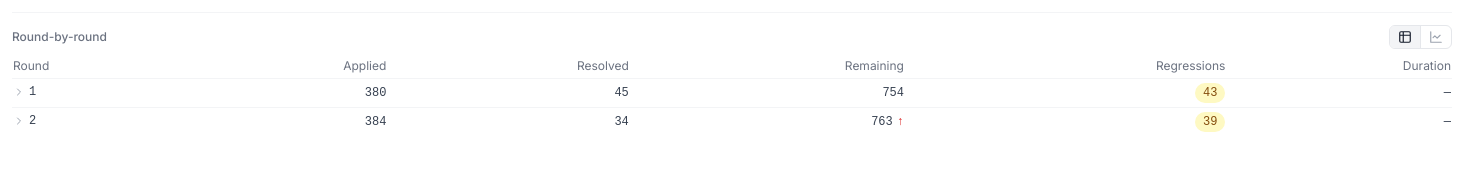
Test case: AutoModeRoundHistory › expands a round to show its plain-language explanation on toggle, and collapses it again
This screenshot has width=1464, height=186.
Check: the number of rows is 3, box [12,57,1452,78]; [12,78,1452,108]; [12,108,1452,136]
Step 1. Click the button "2" → (25, 120), box [13,112,36,128]
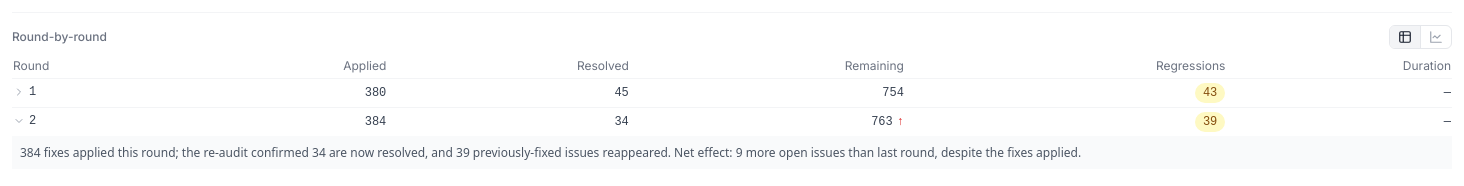
Check: the number of rows is 4, box [12,57,1452,78]; [12,78,1452,108]; [12,108,1452,136]; [12,136,1452,169]
Check: the button "2" is expanded
Check: the text "39 previously-fixed issues reappeared" is shown, box [20,144,1081,161]
Step 2. Click the button "2" → (25, 120), box [13,112,36,128]
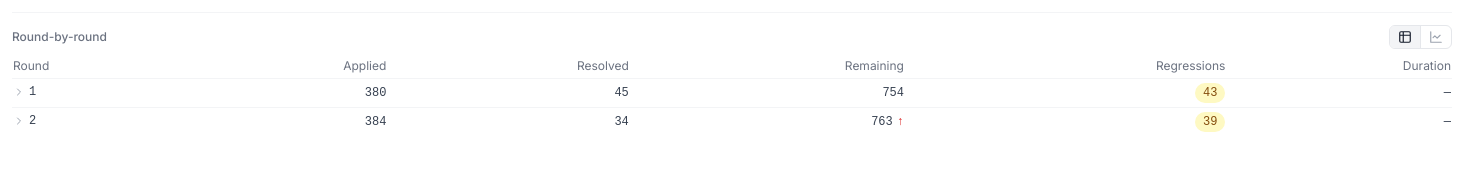
Check: the button "2" is collapsed, box [13,112,36,128]
Check: the text "384 fixes applied this round" is gone
